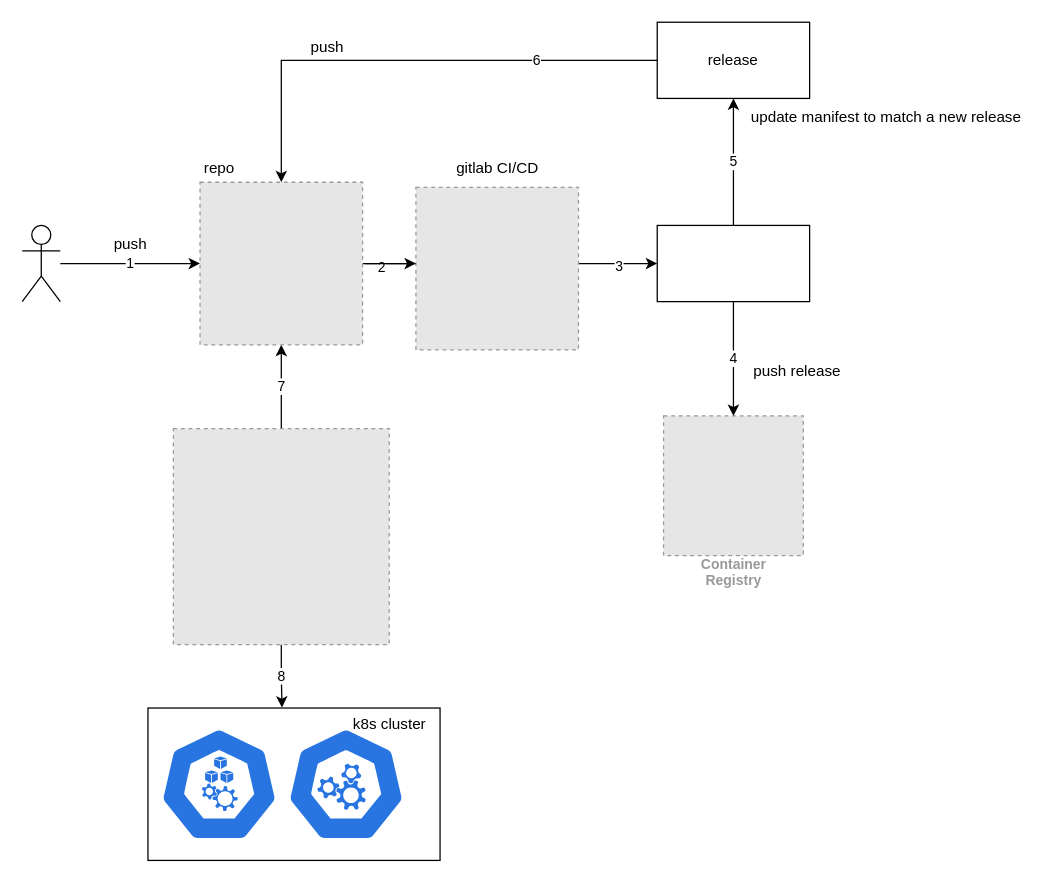
Some shapes in this 1060 by 883 pixel diagram are drawn without their labels. Grey dashed boxes stand in for pictures. The shapes that lost their labels are listed below. From the top down, each one's centre as x and y in pixels, then its label:
At point (40, 263): "dev".
At point (733, 263): "BUILD".
